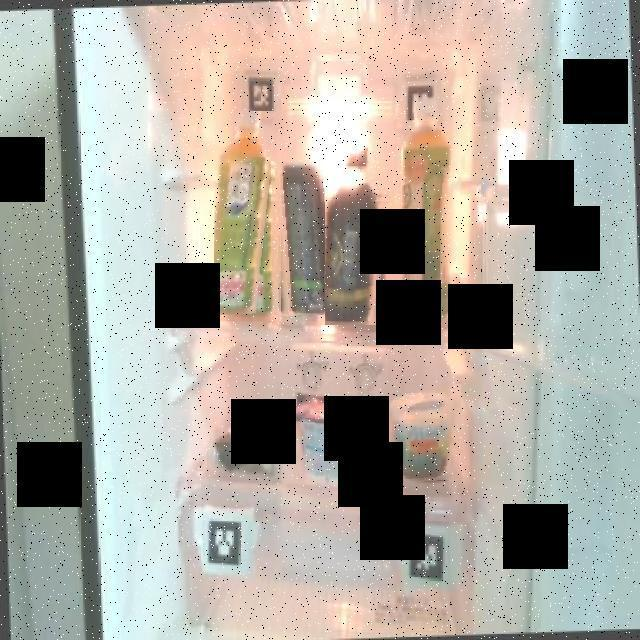bottle: (393, 118, 461, 328), (214, 111, 277, 318)
can: (271, 156, 327, 316)
coffee: (325, 132, 393, 325)
pudding: (386, 384, 462, 485)
rice_ball: (207, 405, 282, 478)
yogurt: (293, 388, 379, 484)
